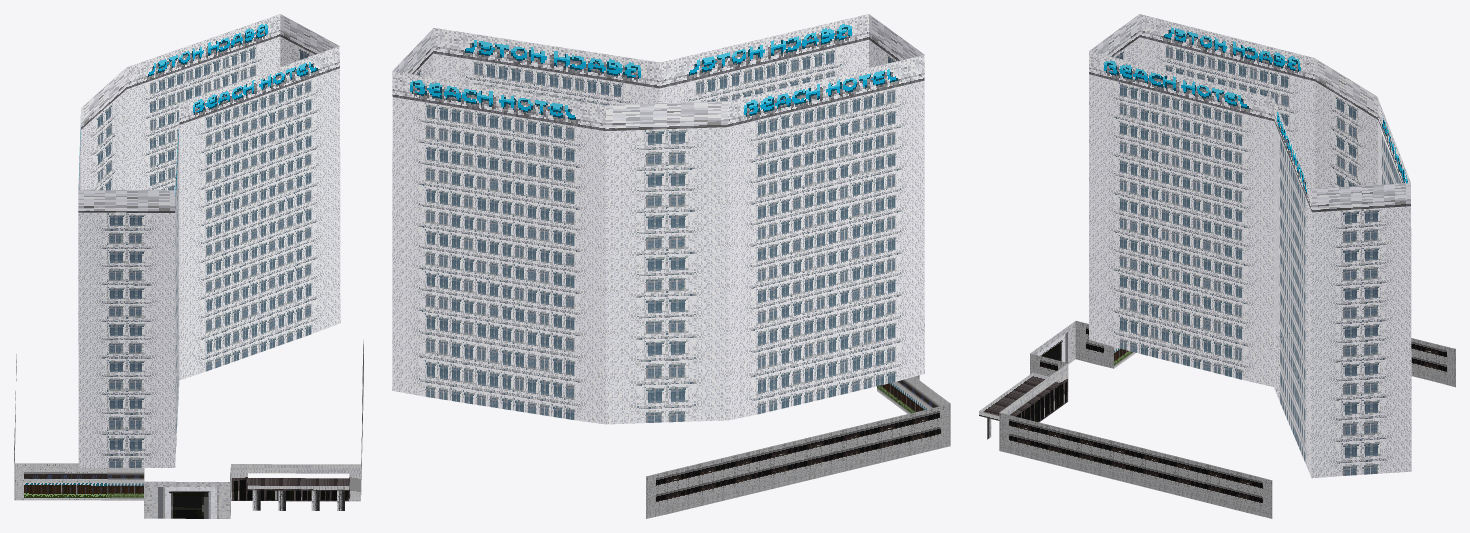
3 renders of one model, left to right at view 1: azimuth 30°, elevation 25°; view 2: azimuth 150°, elevation 25°; view 3: azimuth 270°, elevation 25°, orthographic. The views are drawn at different scales.
Visible parts, largest first — view 1: obj-177; view 2: obj-177; view 3: obj-177.
Part boxes in pixels (x1,y1,x2,y2): obj-177: (14, 14, 363, 518); obj-177: (392, 14, 950, 518); obj-177: (979, 14, 1455, 518).
Size of the model in its own units: 11.71 by 8.96 by 11.82.
Materials: 1 (1 with a texture image).
